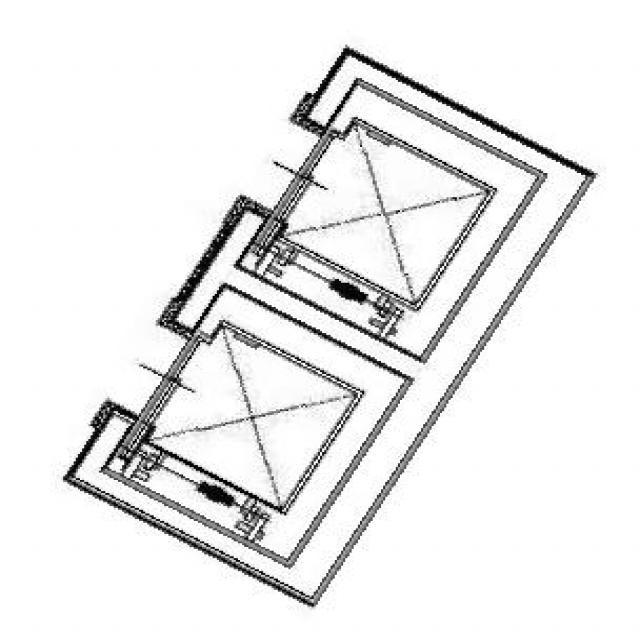lift: (61, 43, 592, 601)
